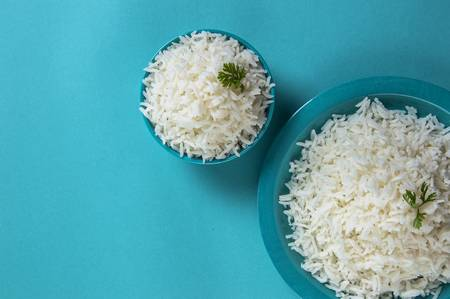plain rice: (294, 103, 450, 293), (144, 33, 269, 155)
